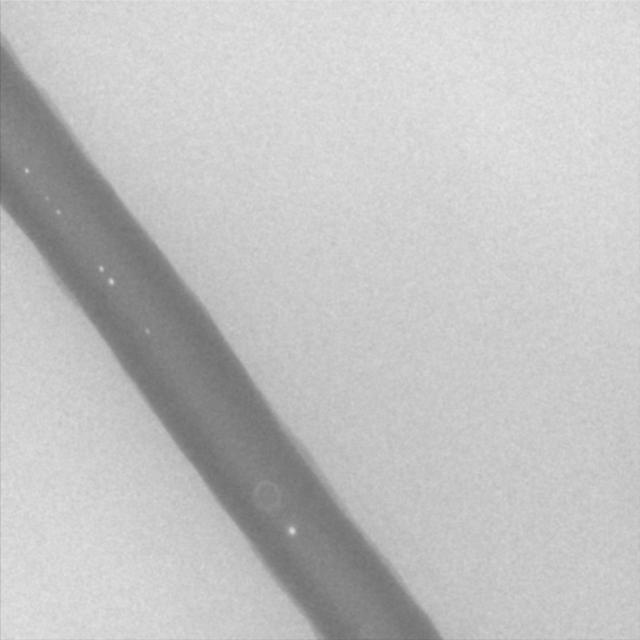air hole: (288, 524, 297, 536), (107, 277, 116, 287), (96, 263, 105, 273), (143, 325, 151, 336), (55, 207, 63, 216), (22, 165, 30, 174)
hollow bead: (250, 478, 282, 514)
